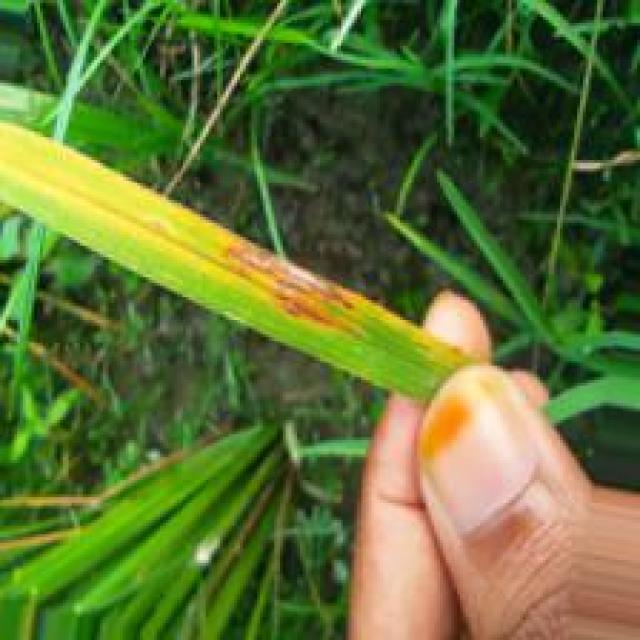Narrow_Brown_Leaf_Spot: (211, 235, 387, 352)
